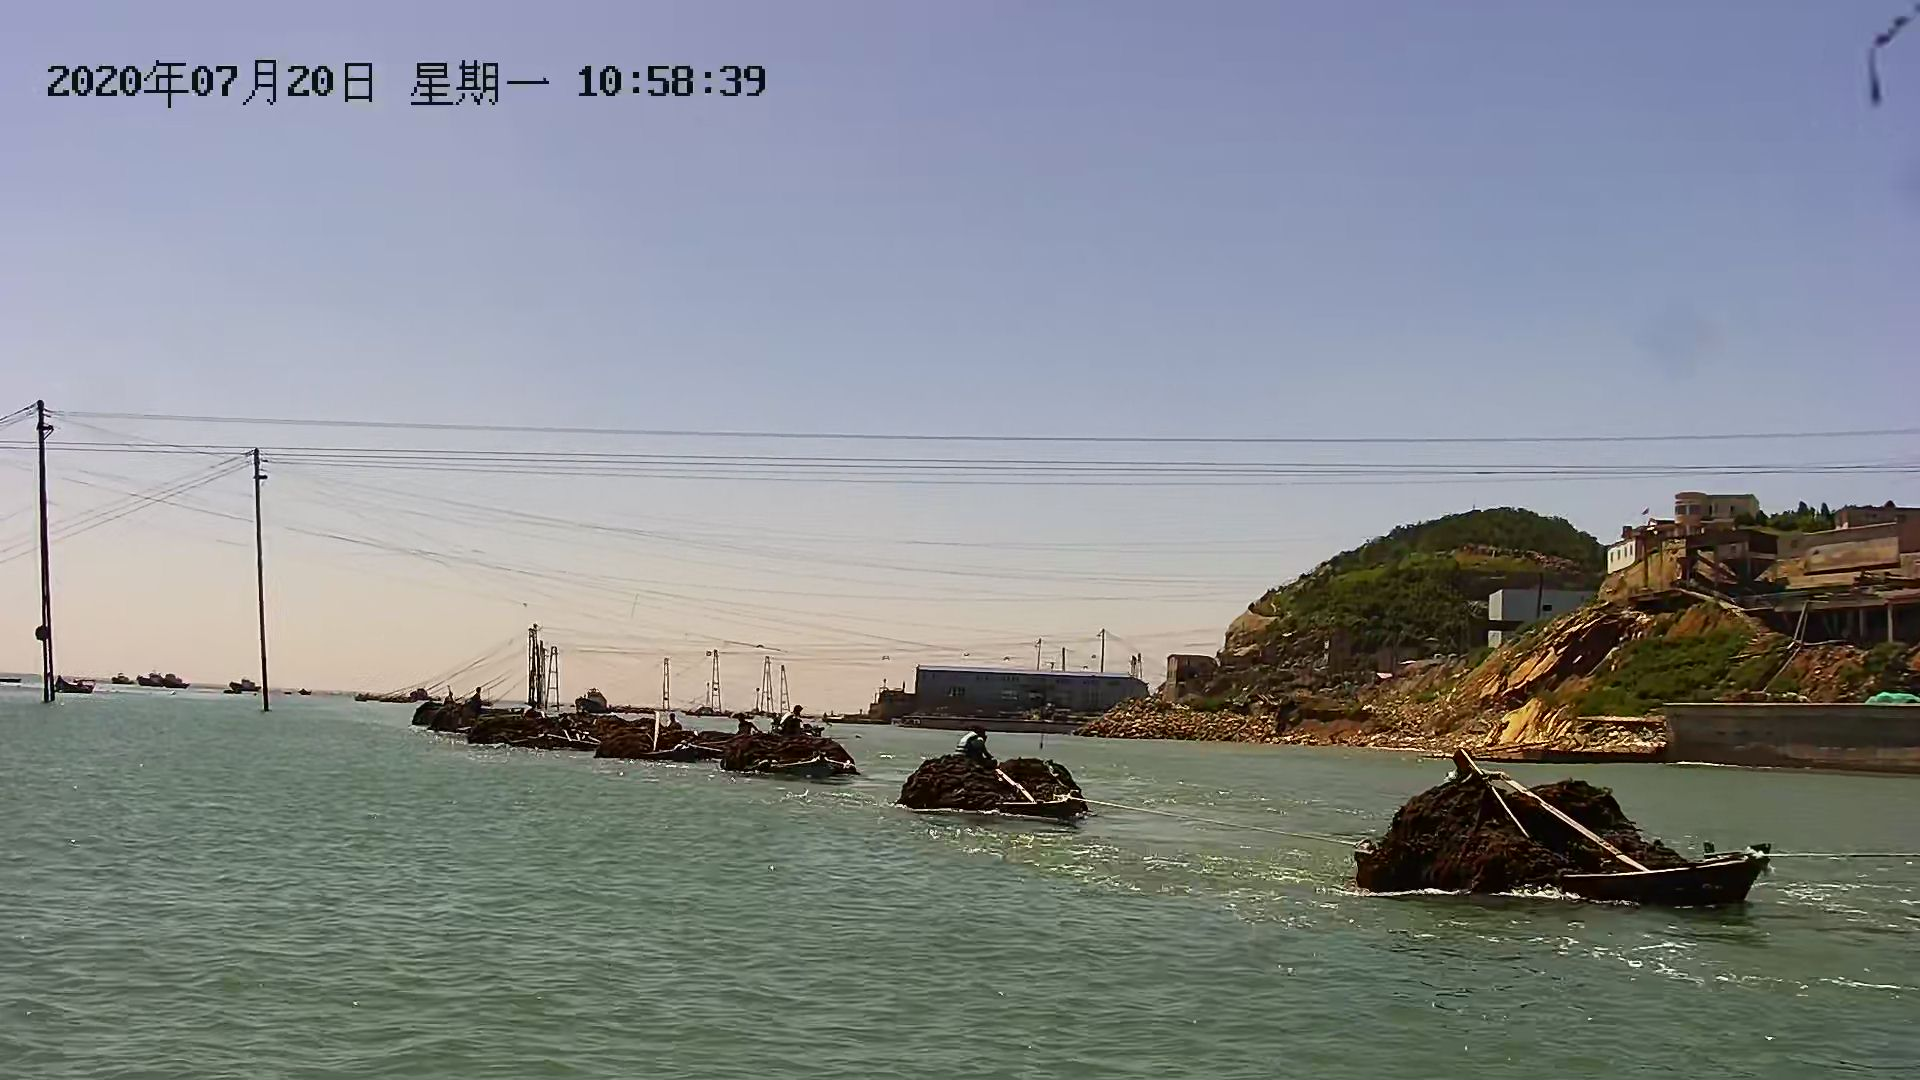mast: (31, 398, 63, 706), (249, 445, 281, 711)
person: (957, 720, 1004, 773)
rubbish: (1353, 774, 1690, 913), (411, 696, 715, 769), (902, 748, 1081, 825), (729, 721, 845, 783)
